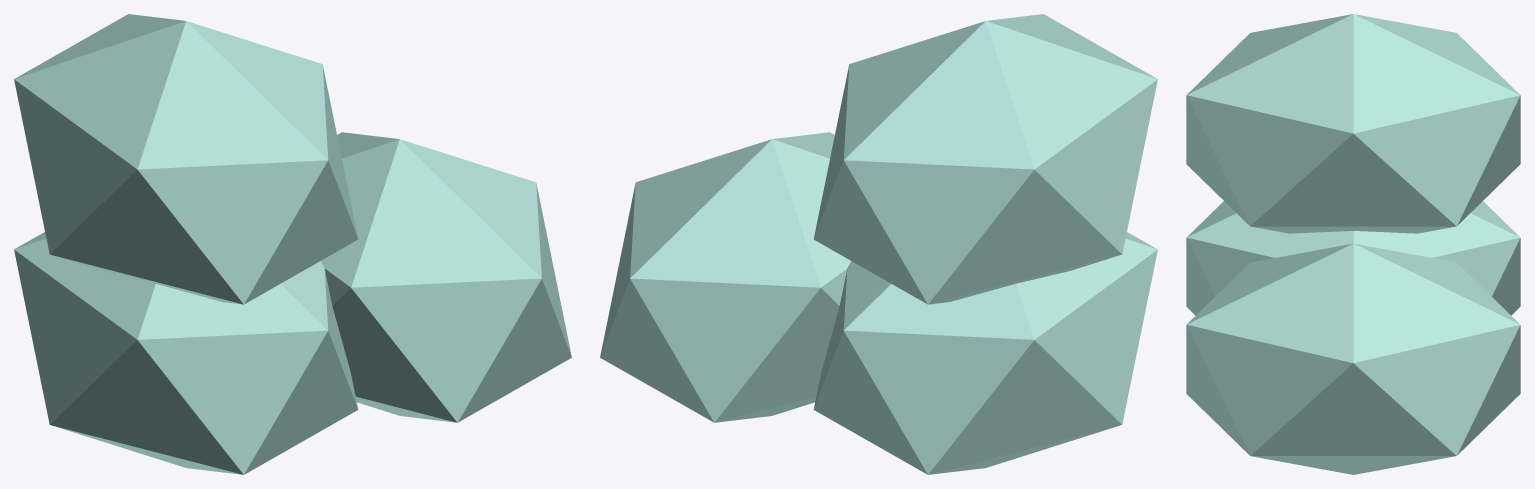
The model's file is cargo_gem.fbx.
The picture shows the model from 3 angles, left to right: view 1: azimuth 30°, elevation 25°; view 2: azimuth 150°, elevation 25°; view 3: azimuth 270°, elevation 25°; orthographic projection. The views are drawn at different scales.
Parts seen in each view (by area): view 1: cargo_gem_mesh; view 2: cargo_gem_mesh; view 3: cargo_gem_mesh.
Part boxes in pixels (<box>): cargo_gem_mesh: <box>14,14,571,474</box>; cargo_gem_mesh: <box>600,14,1157,474</box>; cargo_gem_mesh: <box>1186,14,1520,474</box>.
Bounding box in the file's own units: 0.4783 × 0.42 × 0.3403.
